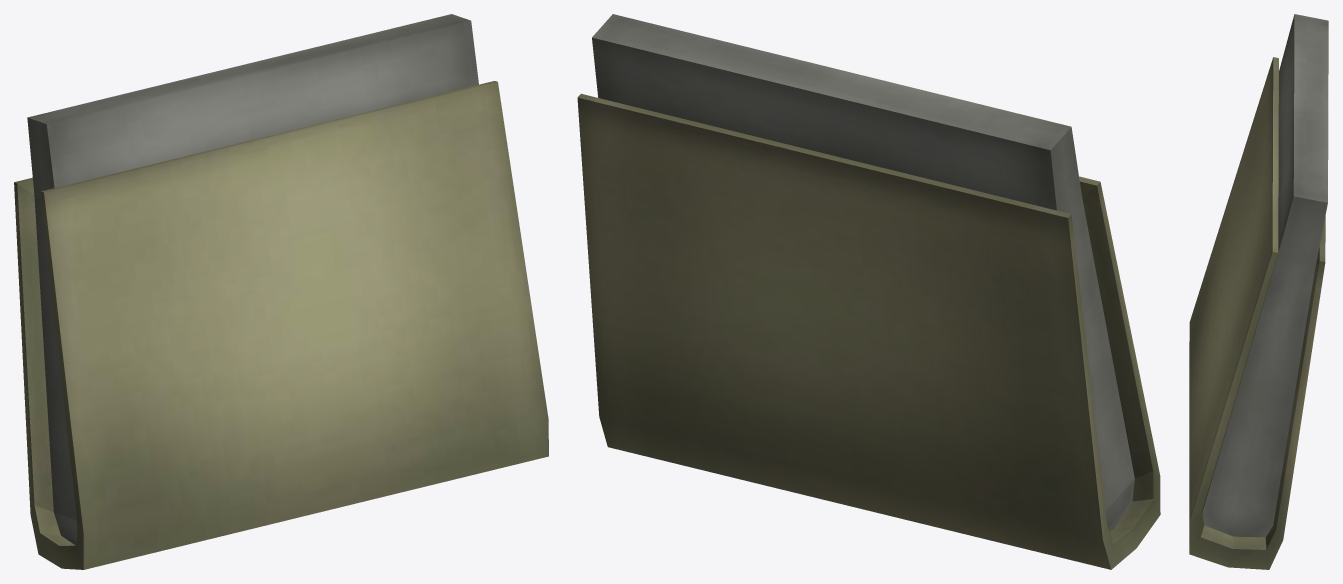
The model's file is Files02.FBX.
The picture shows the model from 3 angles, left to right: view 1: azimuth 30°, elevation 25°; view 2: azimuth 150°, elevation 25°; view 3: azimuth 270°, elevation 25°; orthographic projection. The views are drawn at different scales.
Visible parts, largest first — view 1: Box030; view 2: Box030; view 3: Box030.
Boxes of the visible parts, x1=… form: Box030: x1=14, y1=14, x2=548, y2=569; Box030: x1=577, y1=14, x2=1160, y2=569; Box030: x1=1189, y1=14, x2=1328, y2=569.
Size of the model in its own units: 105 by 89.14 by 30.79.
Materials: 1 (1 with a texture image).
